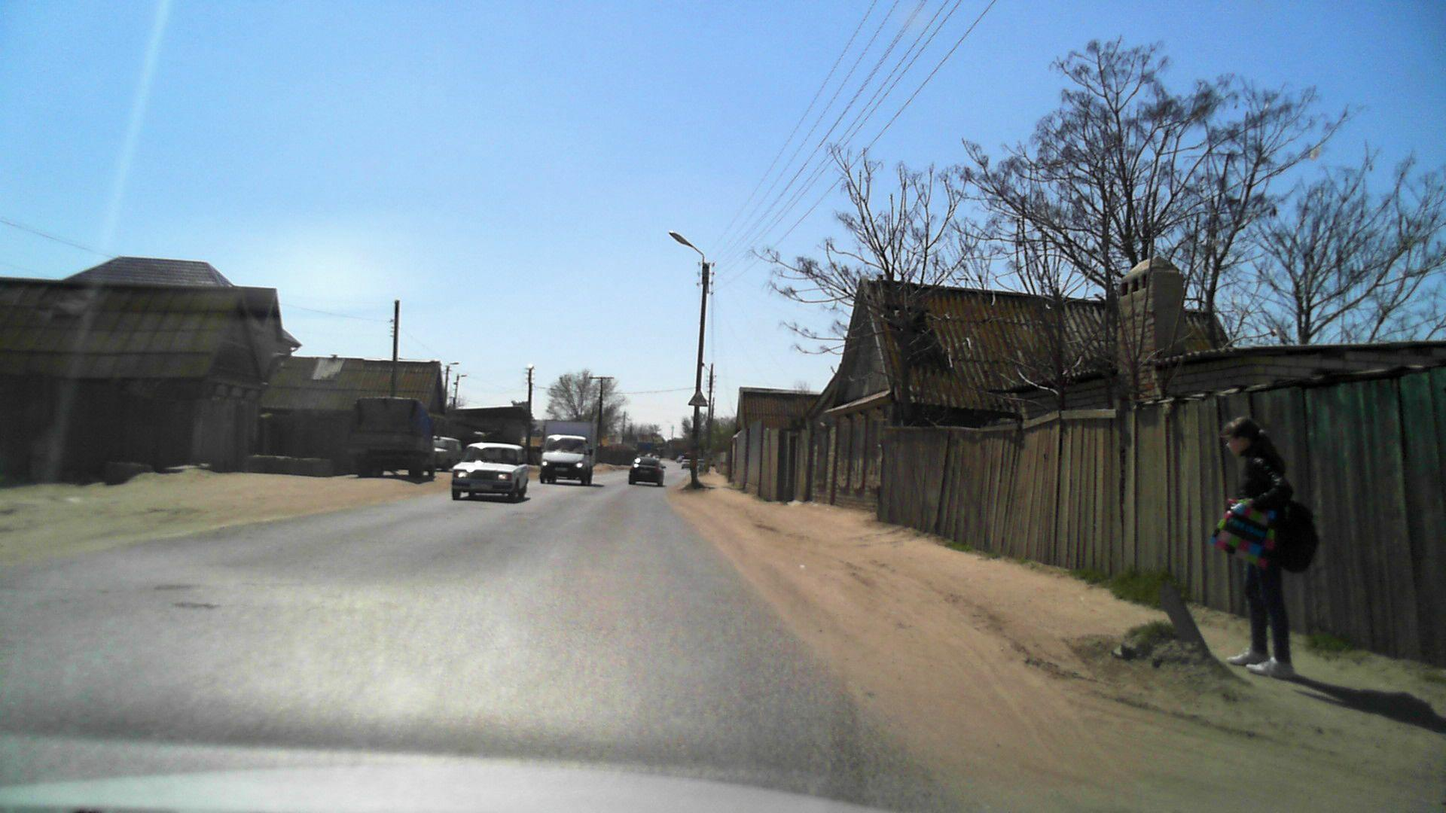road_sign: (687, 389, 708, 407)
